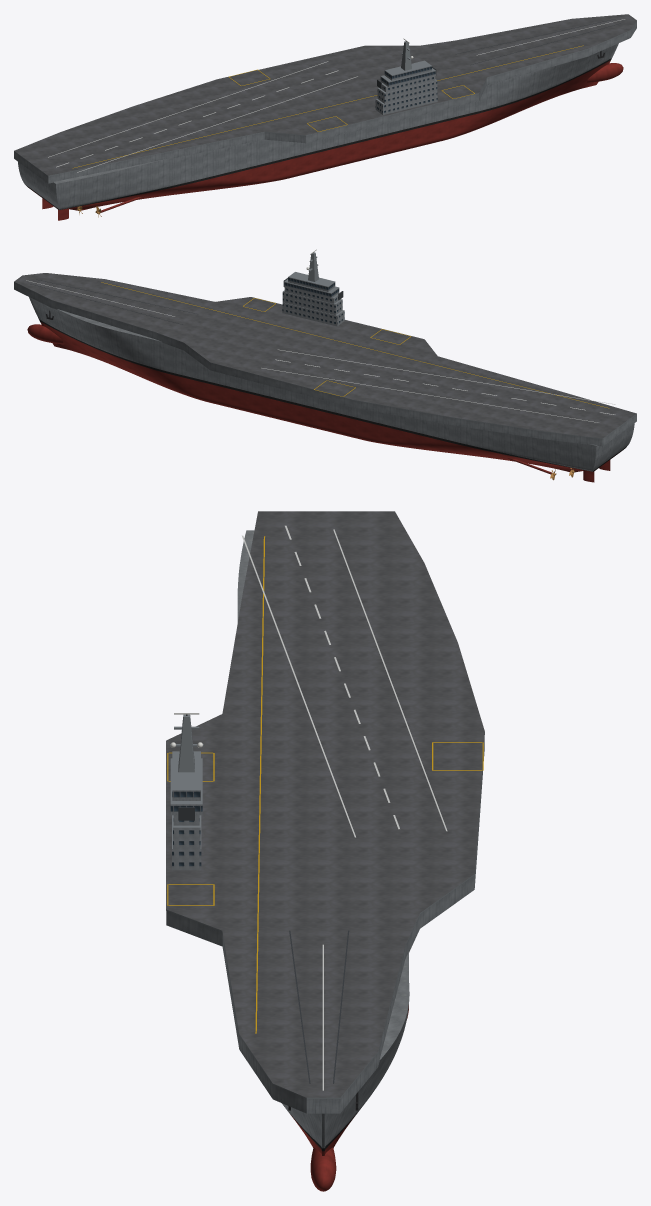
The model's file is carrier.glb.
The picture shows the model from 3 angles, top to bottom: view 1: azimuth 30°, elevation 25°; view 2: azimuth 150°, elevation 25°; view 3: azimuth 270°, elevation 25°; orthographic projection. The views are drawn at different scales.
Parts seen in each view (by area): view 1: Flight deck, Hull, Gallery deck and sponsons, Island, Flight deck markings; view 2: Flight deck, Hull, Gallery deck and sponsons, Island, Flight deck markings; view 3: Flight deck, Hull, Gallery deck and sponsons, Flight deck markings, Island, Island mast.
Boxes of the visible parts, x1,y1,x2,y2 form: Flight deck: (14, 14, 636, 176); Hull: (18, 43, 623, 210); Gallery deck and sponsons: (14, 21, 636, 183); Island: (375, 60, 437, 114); Flight deck markings: (48, 19, 625, 172); Flight deck: (14, 273, 636, 438); Hull: (27, 297, 634, 472); Gallery deck and sponsons: (14, 282, 636, 446); Island: (282, 272, 344, 326); Flight deck markings: (26, 279, 615, 422); Flight deck: (166, 511, 484, 1098); Hull: (237, 530, 409, 1191); Gallery deck and sponsons: (166, 740, 484, 1113); Flight deck markings: (167, 525, 483, 1090); Island: (170, 751, 202, 870); Island mast: (170, 713, 203, 772).
Size of the model in its own units: 330 by 65 by 75.87.
14 materials, 14 textured.
